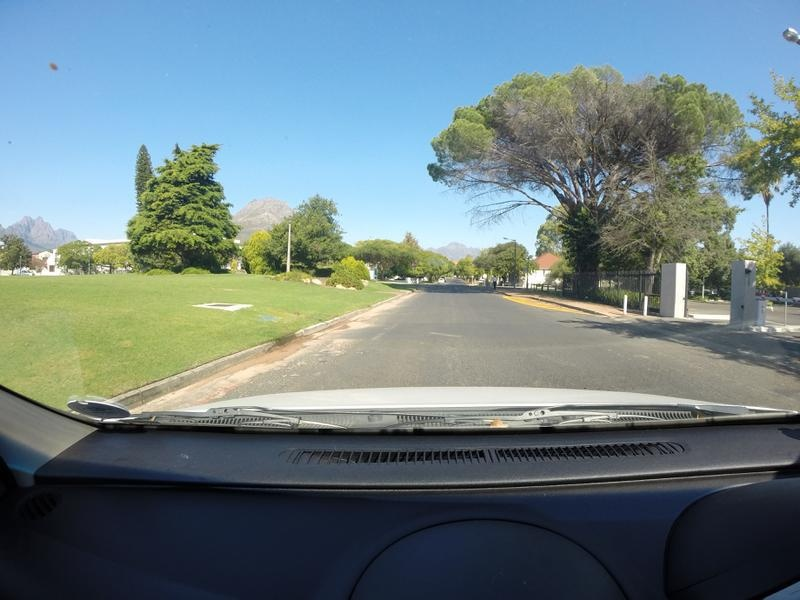pothole: (314, 337, 376, 361)
